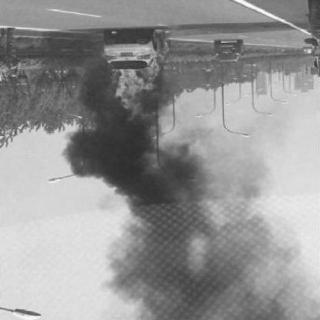Fire: (113, 27, 173, 119)
